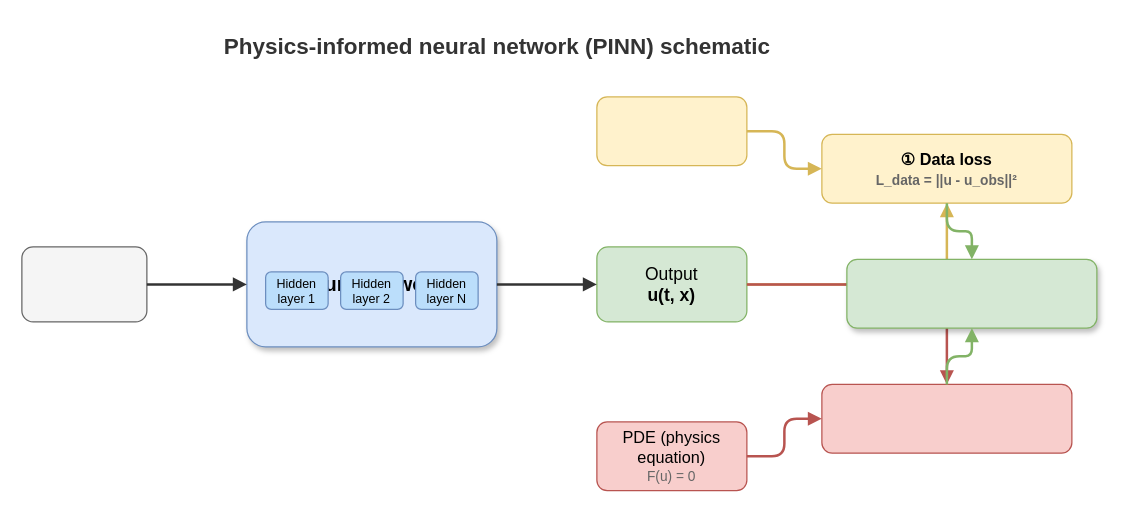
This 1126x513 diagram has some shape labels left out. Here are the shapes that lost their labels. From the top down, the centre of each, then its label:
(671,131): Observed data u_observed
(84,284): Input (t, x)
(972,295): Overall training objective L = L_data + L_physics
(946,418): ② Physics residual loss L_physics = ||F(u)||²
